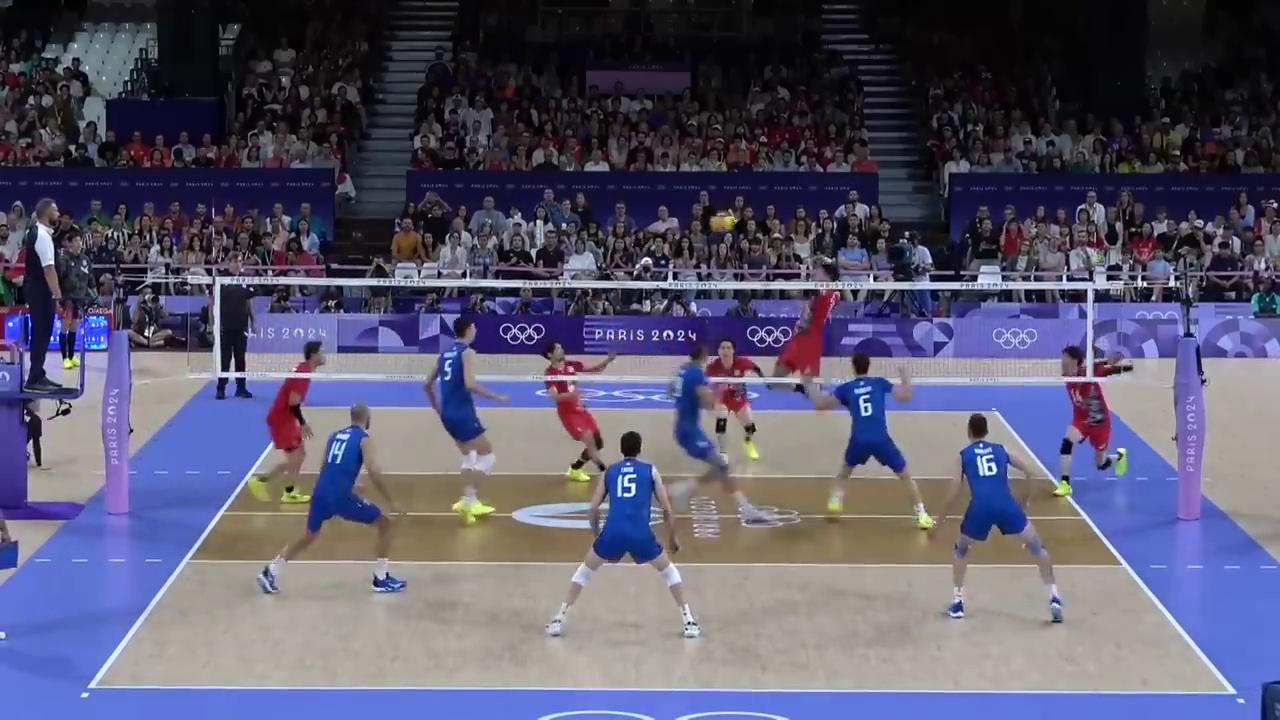ball: (708, 212, 737, 232)
